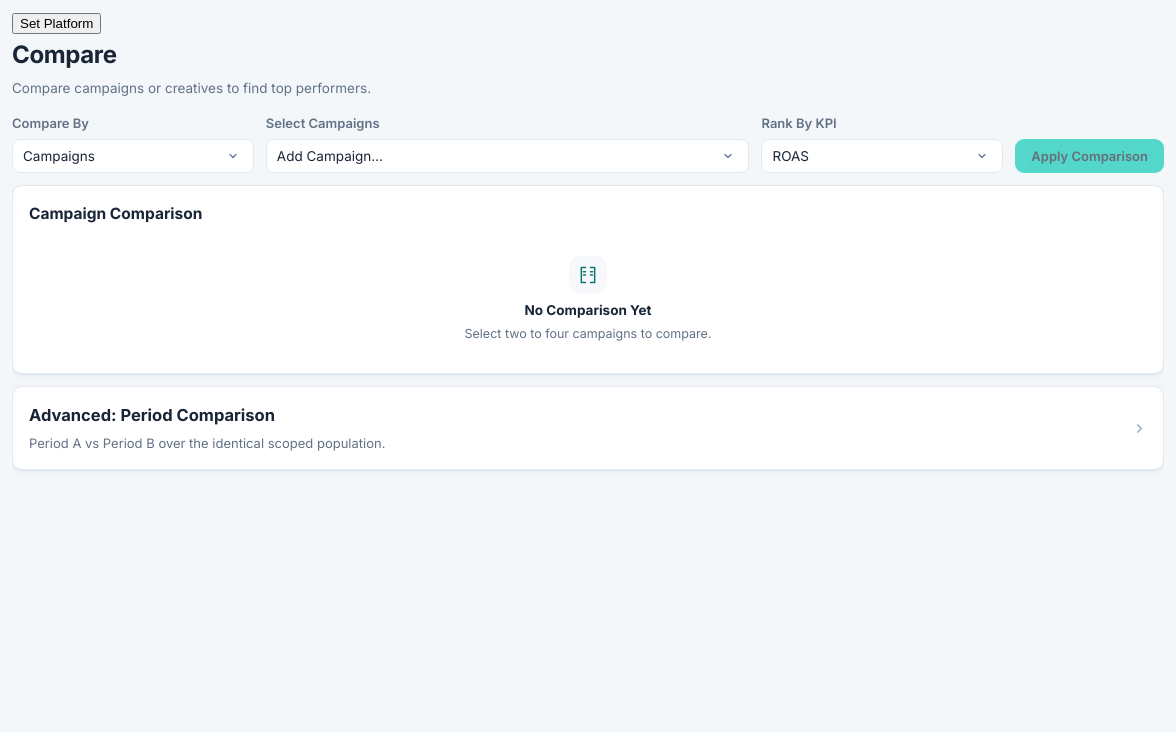
Test: ComparePage › distinguishes incomplete selection from genuinely missing data
This screenshot has width=1176, height=732.
Expected: the text "No Comparison Yet" is shown, [525,300,652,321]
Expected: the text "Select two to four campaigns to compare." is shown, [464,325,712,343]
Select "Creatives" in the dropdown labelled "Compare By": (133, 156) [12,139,254,173]
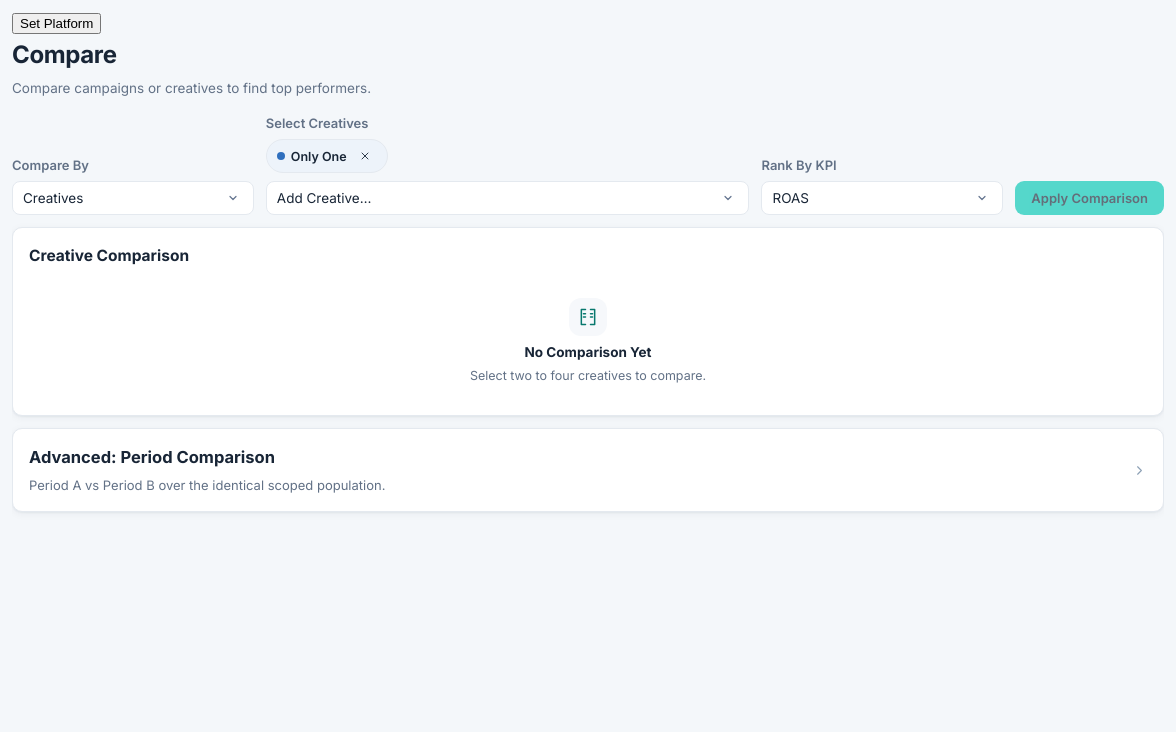
Now the text "Select two to four creatives to compare." is shown, box [470,367,706,385]
